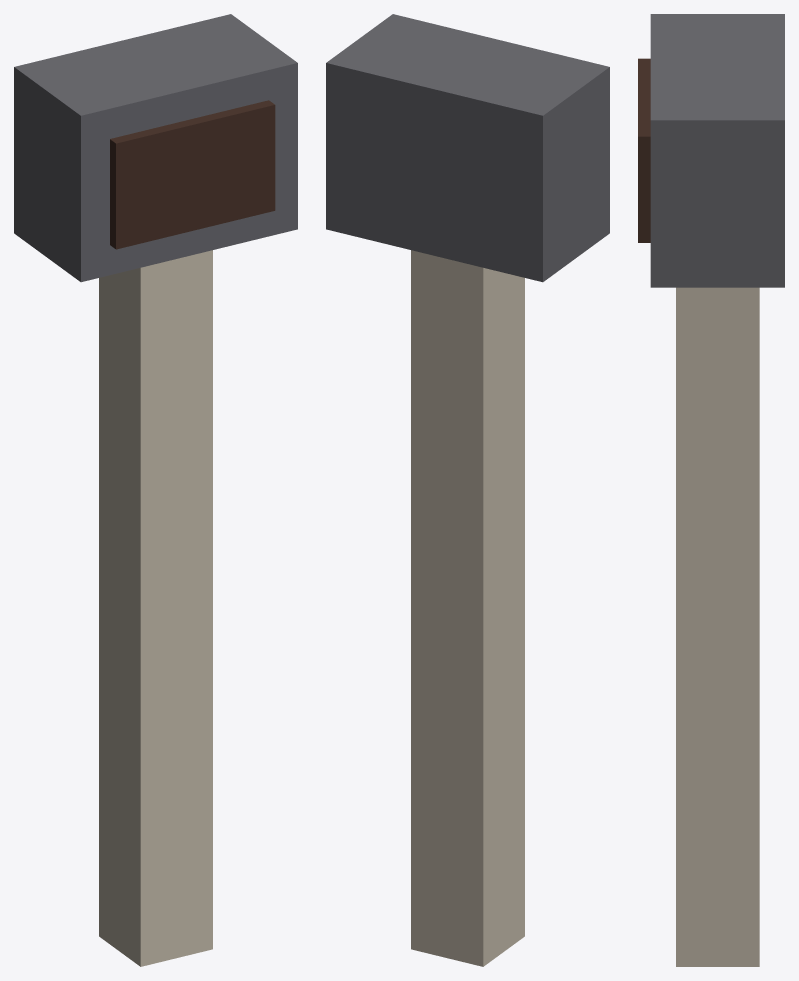
Rendered from drivein_speaker_5.glb.
3 renders of one model, left to right at view 1: azimuth 30°, elevation 25°; view 2: azimuth 150°, elevation 25°; view 3: azimuth 270°, elevation 25°, orthographic.
Visible parts, largest first — view 1: Box1, Box2, Box3; view 2: Box1, Box2; view 3: Box1, Box2, Box3.
Boxes of the visible parts, x1,y1,x2,y2 form: Box1: (99,250,212,966); Box2: (14,14,297,282); Box3: (110,100,275,249); Box1: (411,250,524,966); Box2: (326,14,609,282); Box1: (676,287,759,966); Box2: (650,14,784,287); Box3: (638,58,650,242).
Size of the model in its own units: 0.3 by 1.16 by 0.175.
